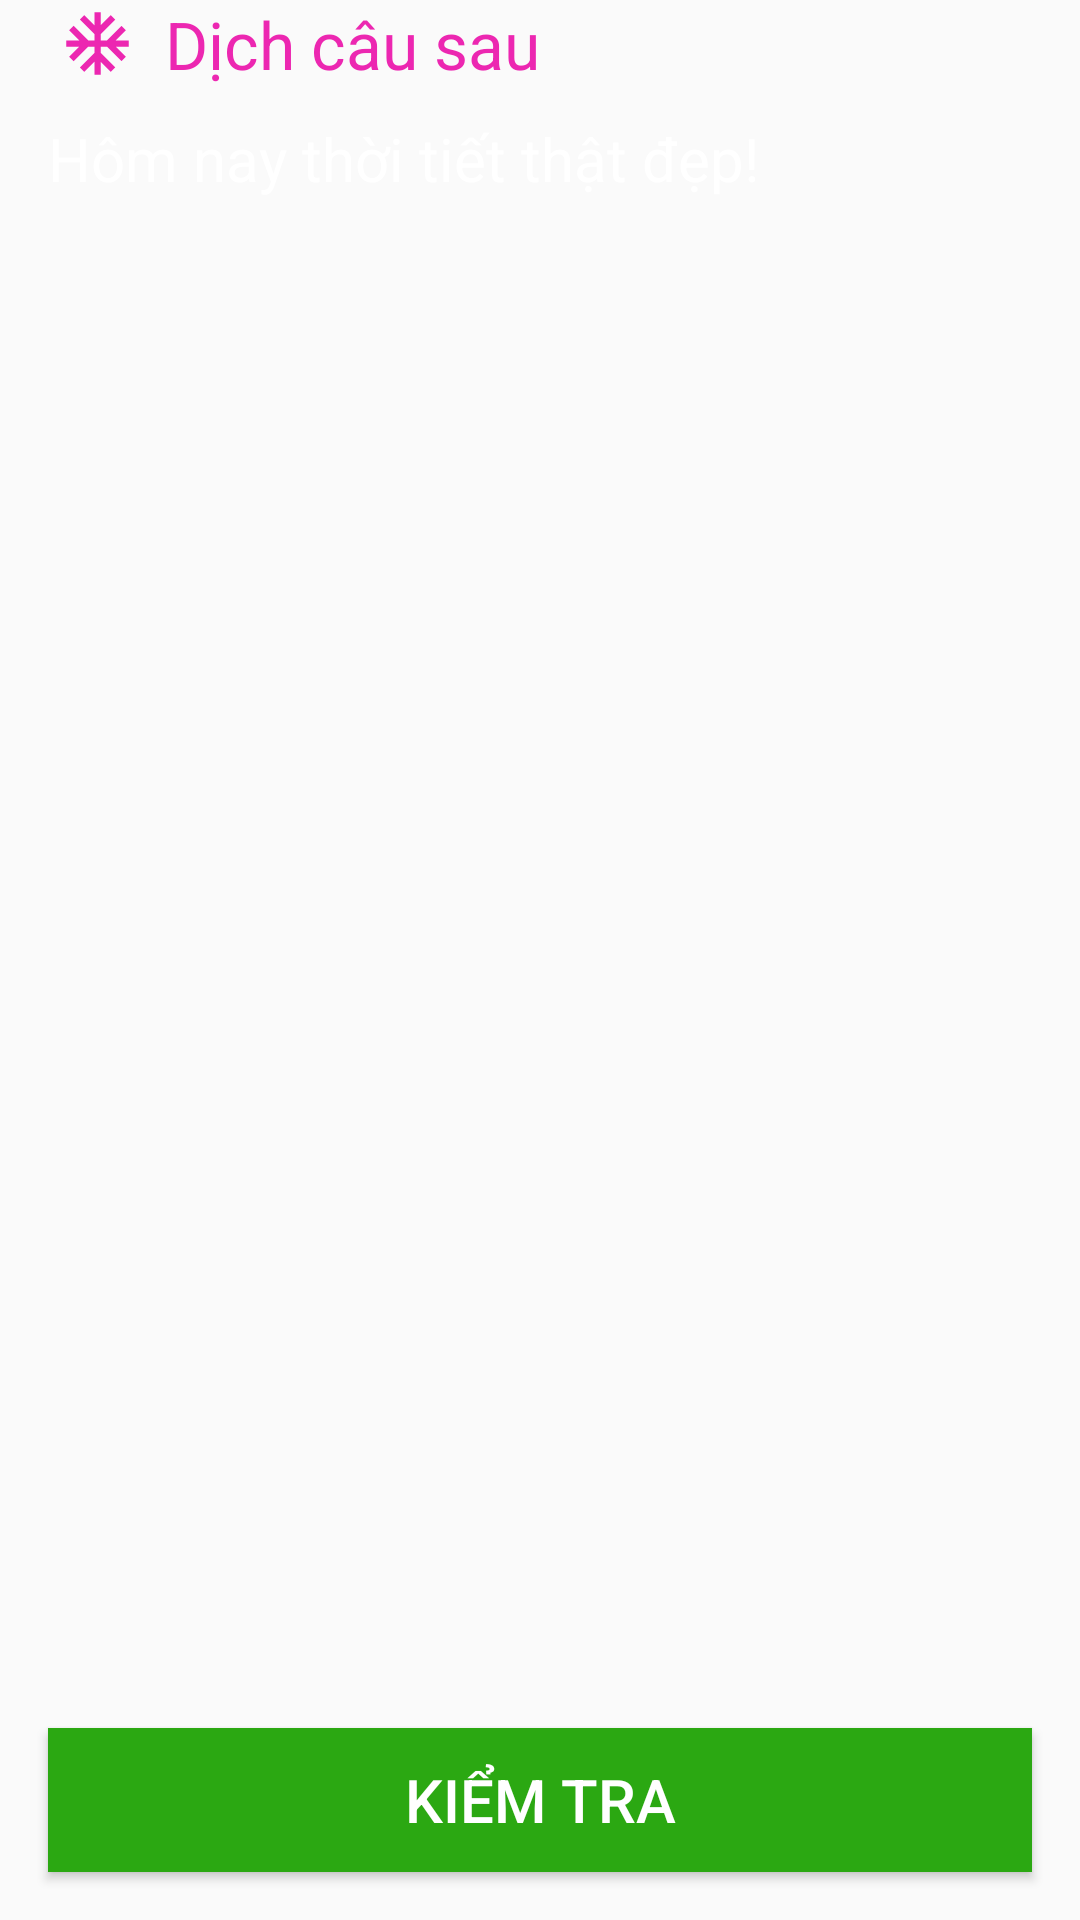

Point at icon controls on the screen. Image size 1080*1920, points as (x=x, y=y).
ac unit: (x=97, y=43)
